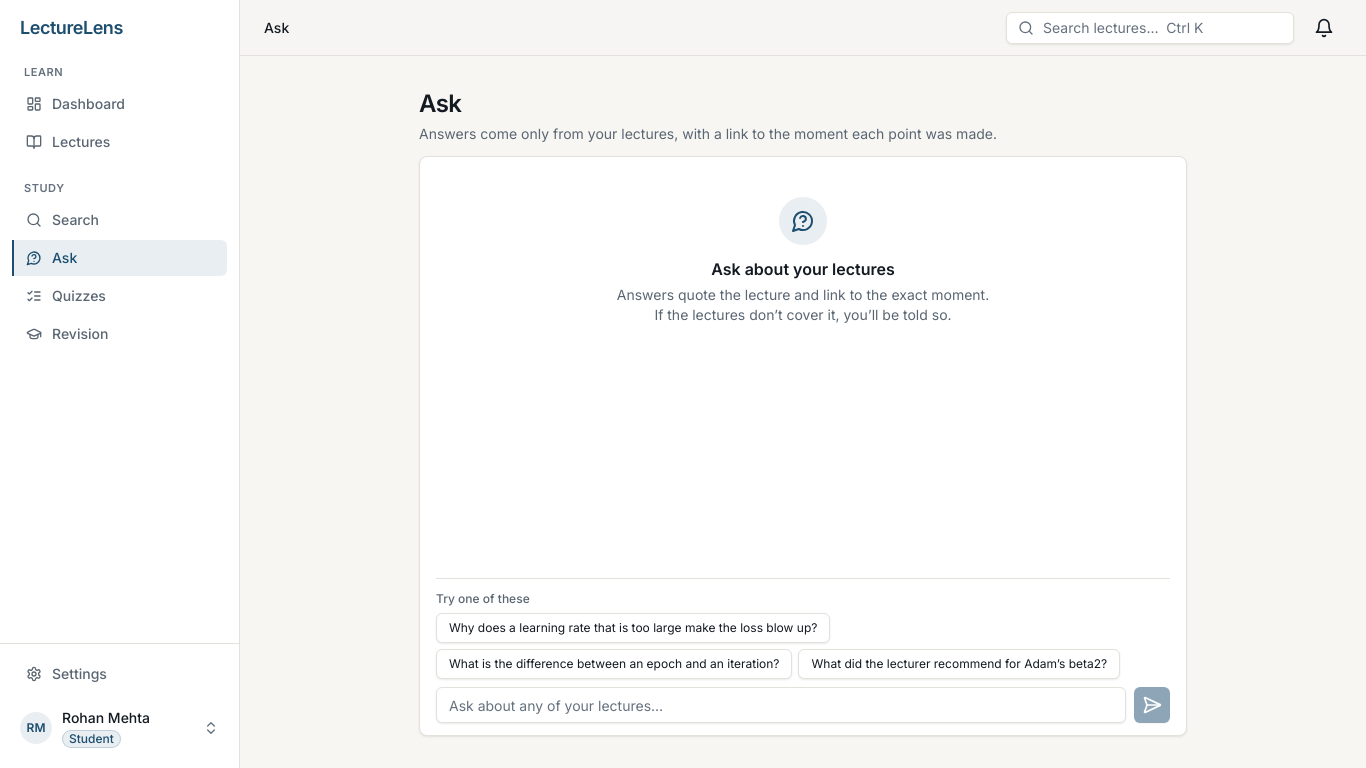
Test: Ask — grounded answers and abstention › guard: answerable with no citations renders as an abstention and logs a warning
Type "Why does a learning rate that is too large make the loss blow up?" into the field named "Your question" at [781, 705], box top-left (436, 687), bottom-right (1126, 723)
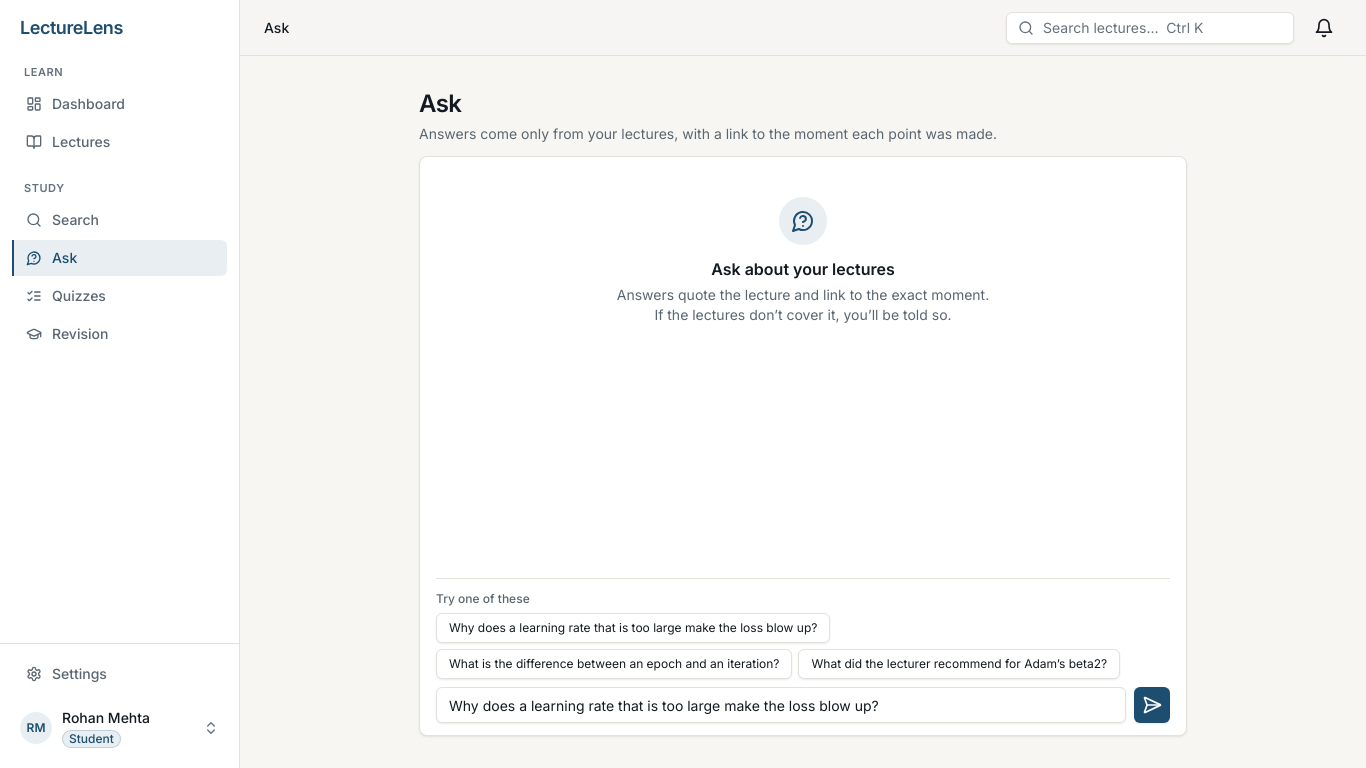
Submit the form named "Your question", box top-left (436, 578), bottom-right (1170, 735)
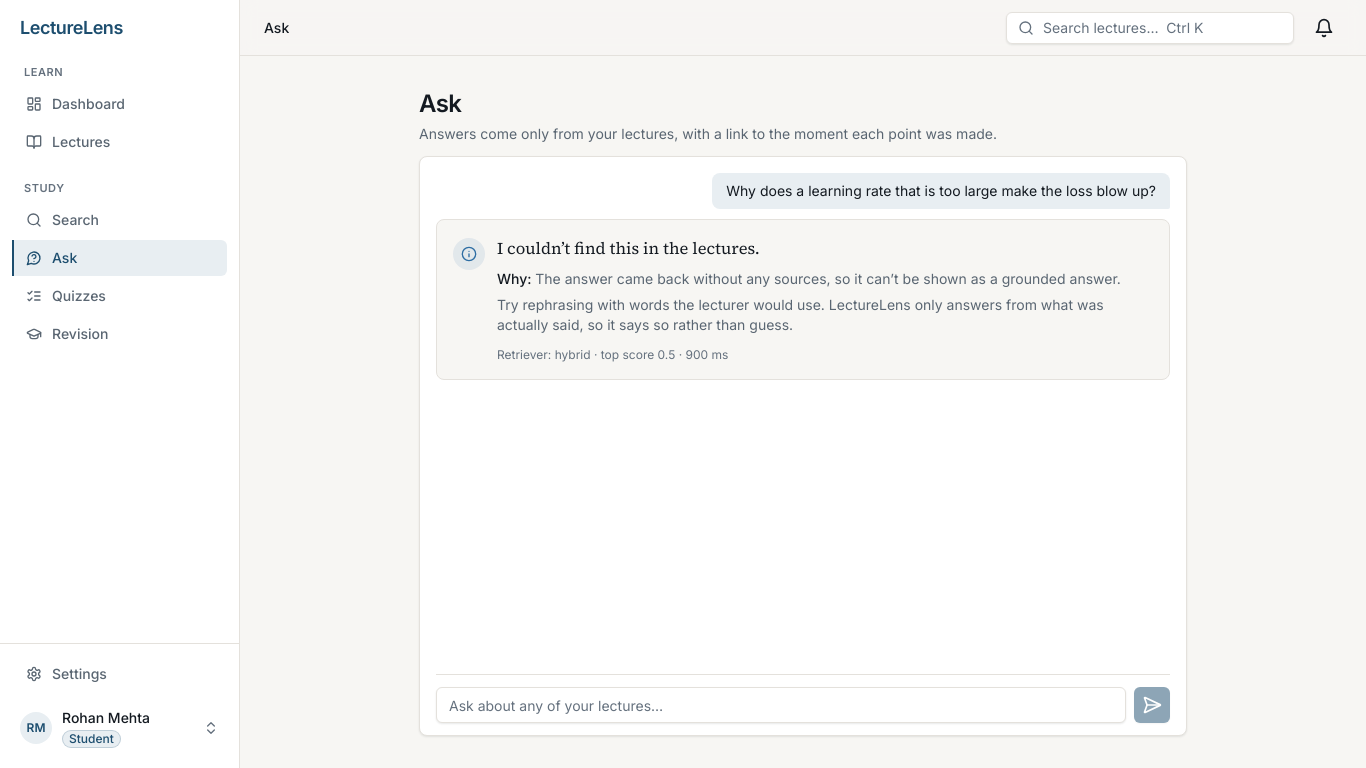
Expected: the element with test id "abstained-panel" shows "came back without any sources", top-left (535, 270), bottom-right (1121, 287)
